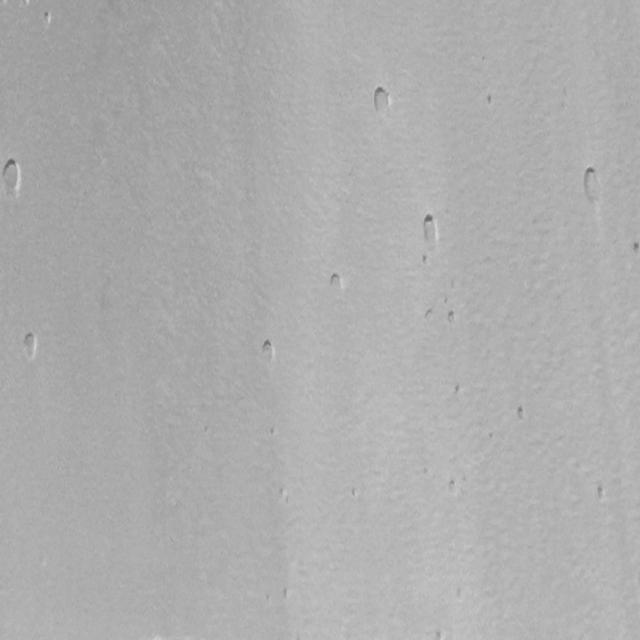pin holes: (417, 210, 442, 252), (579, 165, 604, 206), (4, 155, 25, 197), (370, 83, 394, 117), (19, 328, 41, 361), (257, 337, 280, 366), (325, 270, 347, 296), (593, 482, 613, 507), (444, 476, 464, 500), (275, 485, 294, 508), (450, 381, 466, 403), (265, 424, 281, 446), (514, 404, 530, 423), (444, 309, 460, 328), (42, 8, 55, 29), (421, 305, 436, 323), (419, 249, 432, 268), (483, 92, 496, 110), (280, 584, 292, 602), (347, 485, 361, 500), (630, 239, 640, 258), (434, 627, 448, 639), (422, 463, 430, 479), (441, 296, 450, 307)
